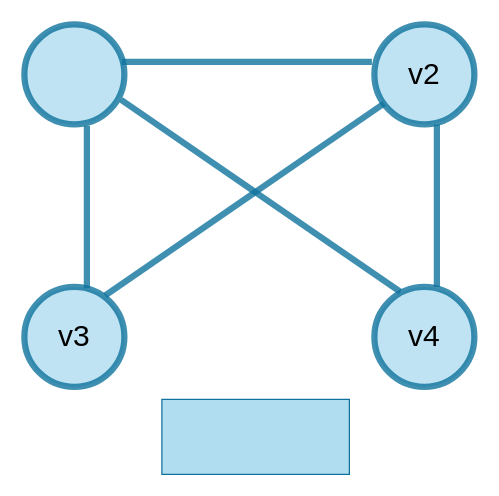
This 499x496 diagram has some shape labels left out. Here are the shapes that lost their labels. From the top down, the centre of each, then its label:
At point (74, 74): "v1".
At point (255, 436): "无向图G".
